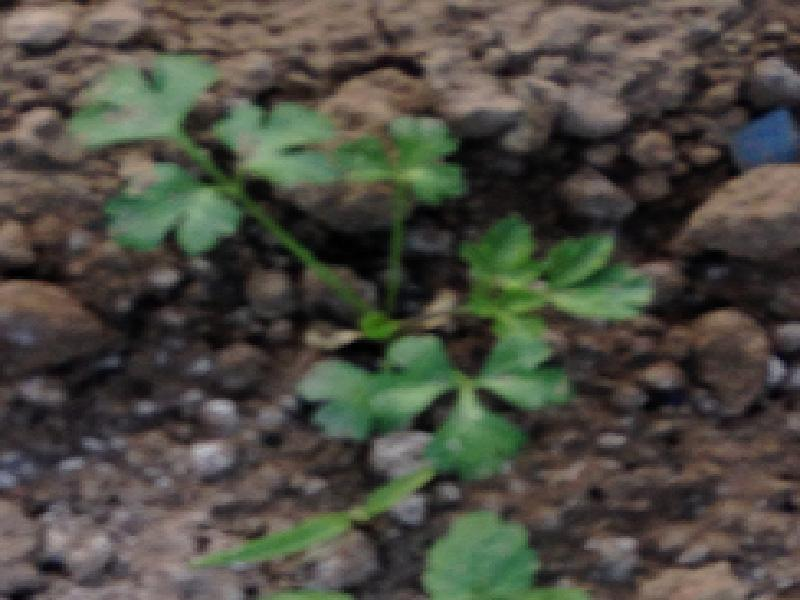radish: (105, 124, 614, 549)
